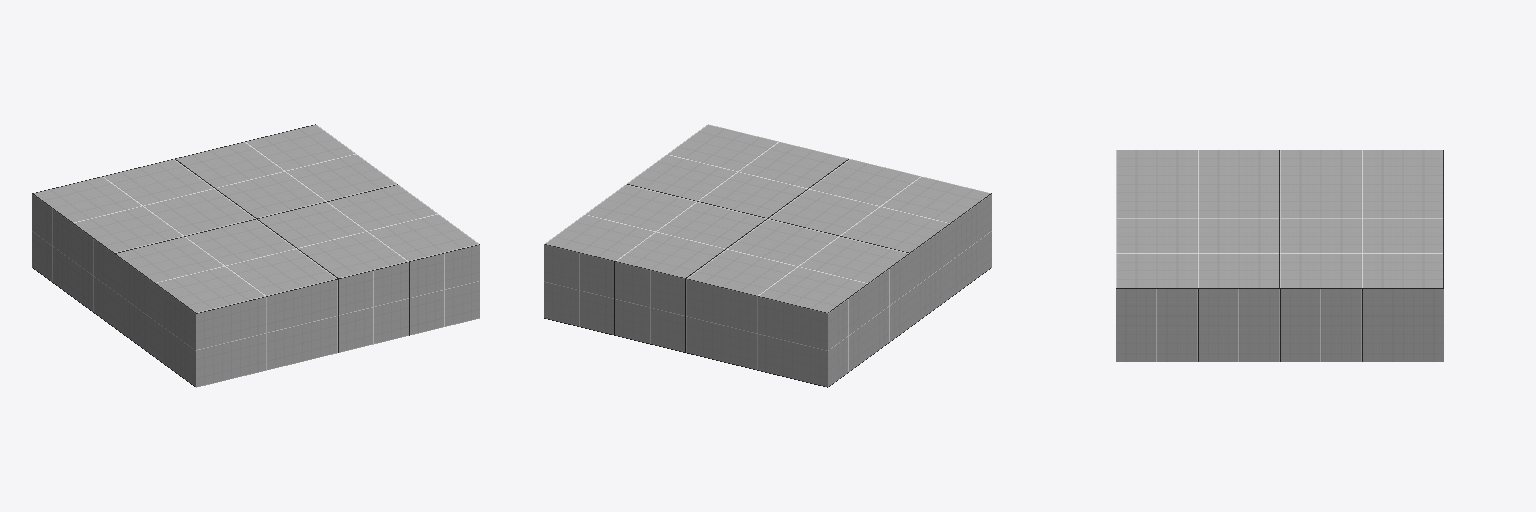
The picture shows the model from 3 angles: view 1: azimuth 30°, elevation 25°; view 2: azimuth 150°, elevation 25°; view 3: azimuth 270°, elevation 25°; orthographic projection.
Parts seen in each view (by area): view 1: Cube; view 2: Cube; view 3: Cube.
Part boxes in pixels (x1,y1,x2,y2): Cube: (32, 124, 479, 387); Cube: (544, 124, 991, 387); Cube: (1116, 150, 1443, 361).
Bounding box in the file's own units: 16 × 4 × 16.
Materials: 1 (1 with a texture image).